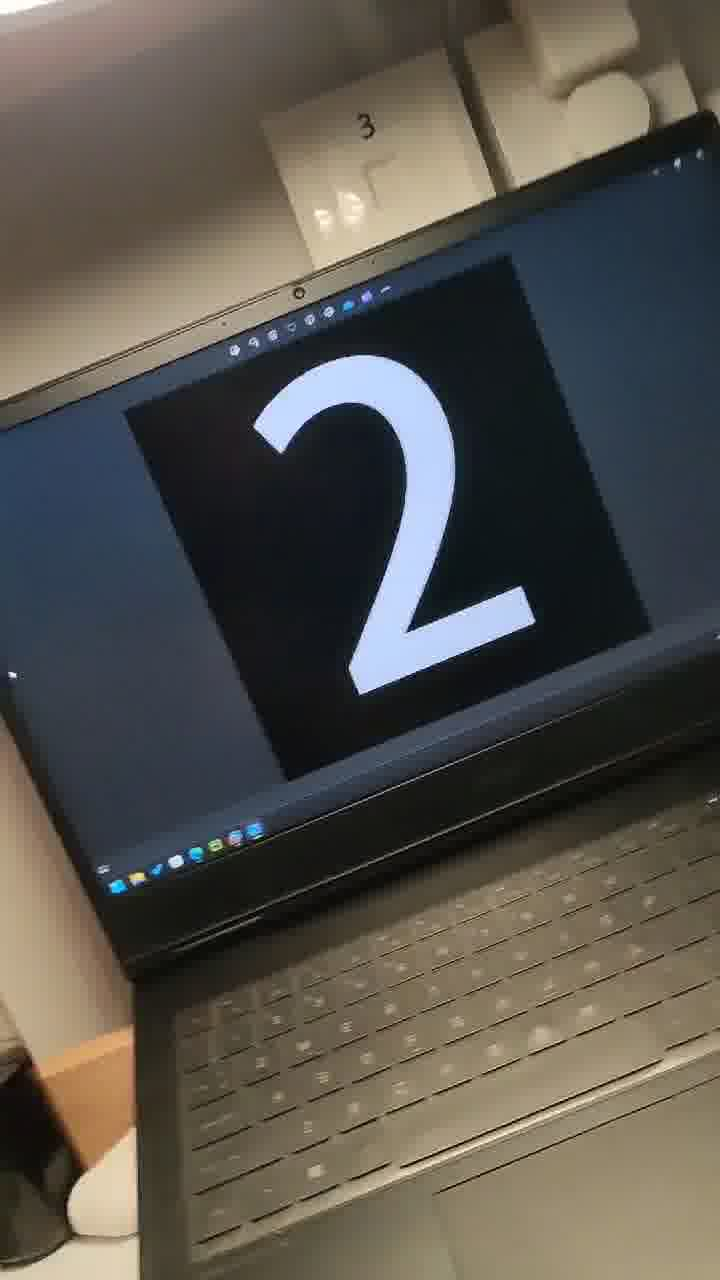two: (239, 312, 563, 712)
